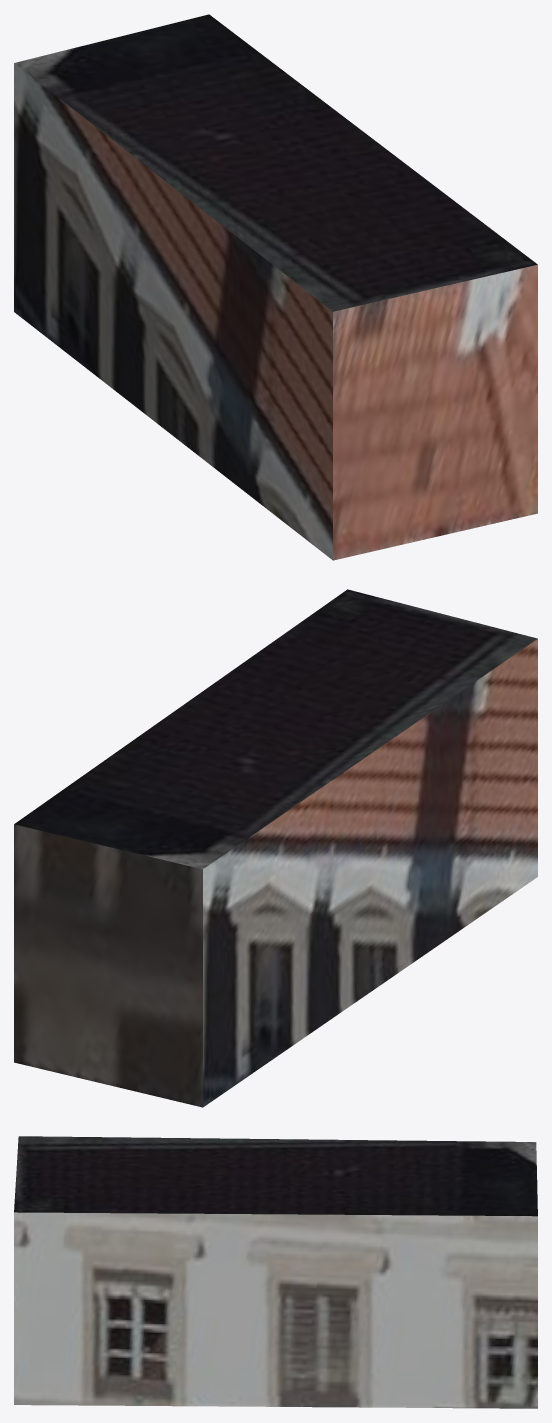
3 renders of one model, top to bottom at view 1: azimuth 30°, elevation 25°; view 2: azimuth 150°, elevation 25°; view 3: azimuth 270°, elevation 25°, orthographic. The views are drawn at different scales.
Visible parts, largest first — view 1: Z_UP; view 2: Z_UP; view 3: Z_UP.
Part boxes in pixels (bbox=[...]): Z_UP: bbox=[14, 14, 537, 560]; Z_UP: bbox=[14, 589, 537, 1107]; Z_UP: bbox=[14, 1136, 537, 1408].
Bounding box in the file's own units: 3.11 × 3.5 × 8.62.
2 materials, 1 textured.
